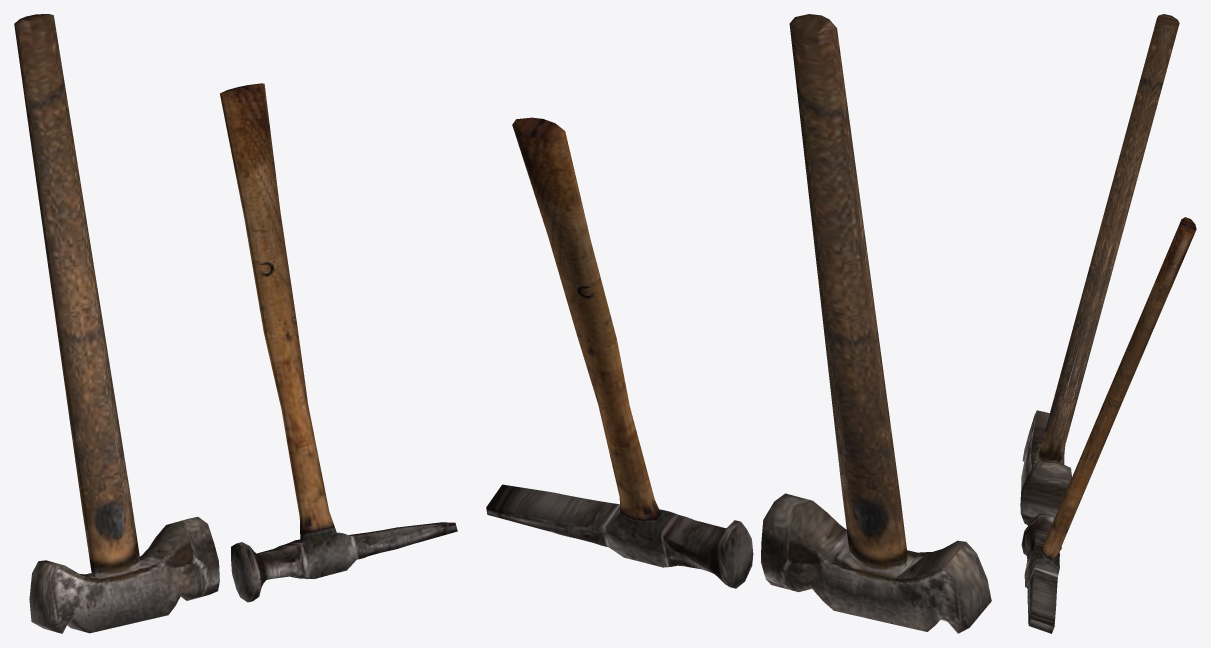
File: hammers.dae
3 renders of one model, left to right at view 1: azimuth 30°, elevation 25°; view 2: azimuth 150°, elevation 25°; view 3: azimuth 270°, elevation 25°, orthographic. The views are drawn at different scales.
Parts seen in each view (by area): view 1: meshU3D; view 2: meshU3D; view 3: meshU3D.
Part boxes in pixels (x1=…): meshU3D: x1=14, y1=14, x2=457, y2=633; meshU3D: x1=486, y1=14, x2=991, y2=633; meshU3D: x1=1020, y1=14, x2=1196, y2=633.
Bounding box in the file's own units: 21.25 × 27.94 × 9.21.
Materials: 1 (1 with a texture image).
